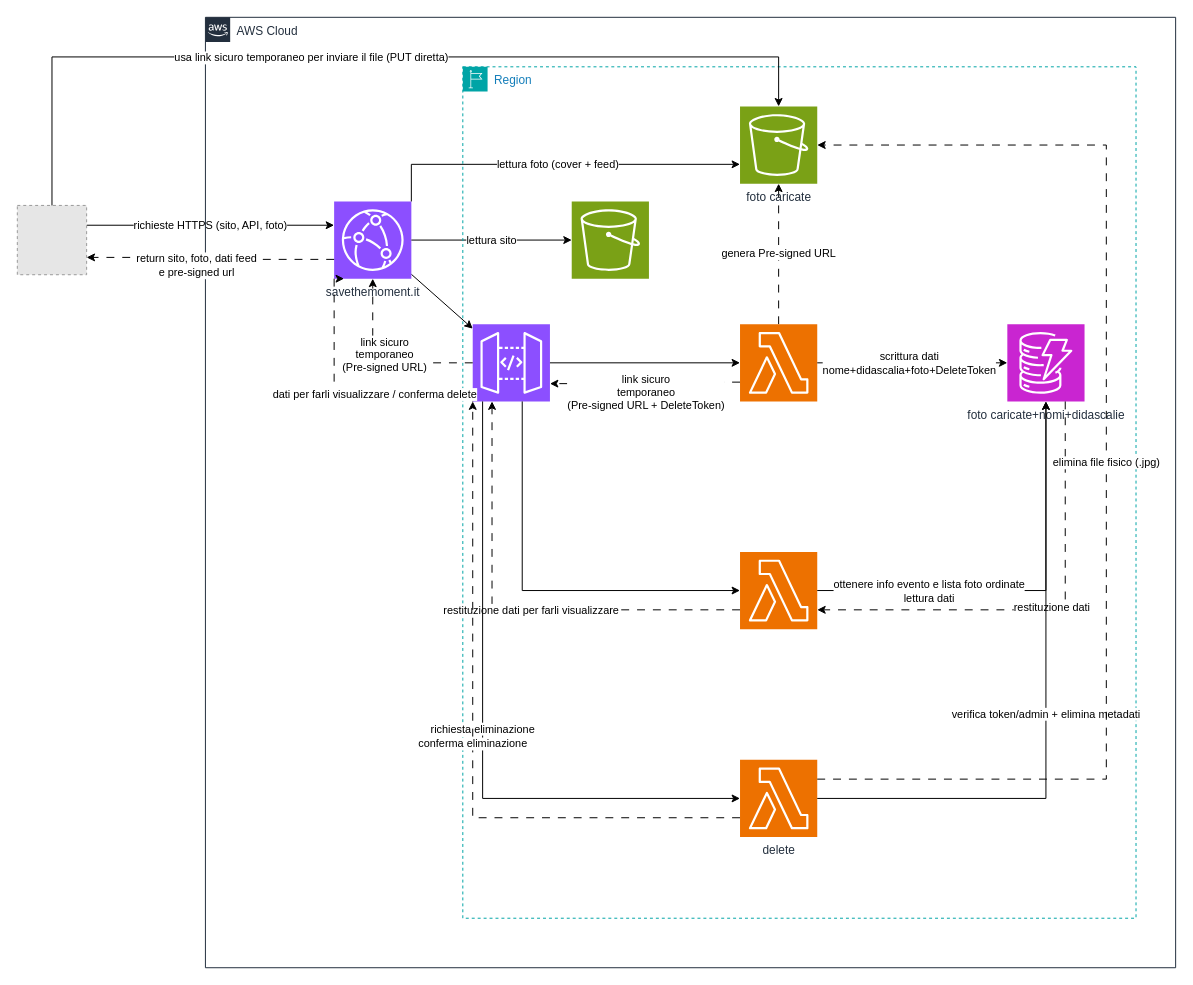
Some shapes in this 1193 by 985 pixel diagram are drawn without their labels. Grey dashed boxes stand in for pictures. The shapes that lost their labels are listed below. From the top down, each one's centre as x and y in pixels, then its label:
At pixel 610 239: "frontend".
At pixel 778 362: "upload".
At pixel 778 590: "feed".
